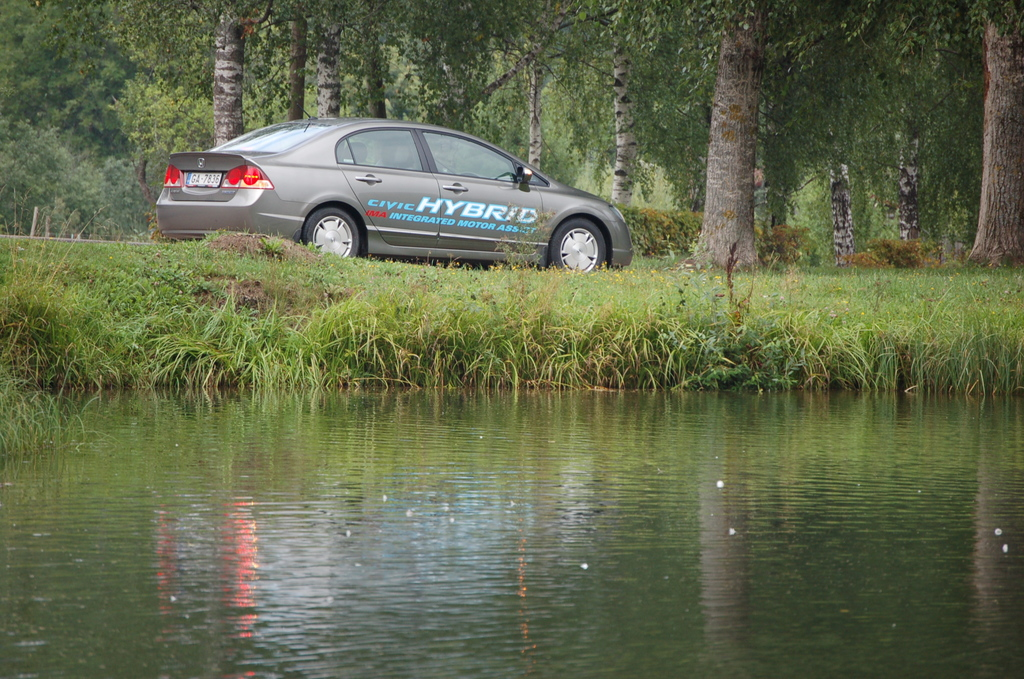Car: (152, 108, 638, 272)
